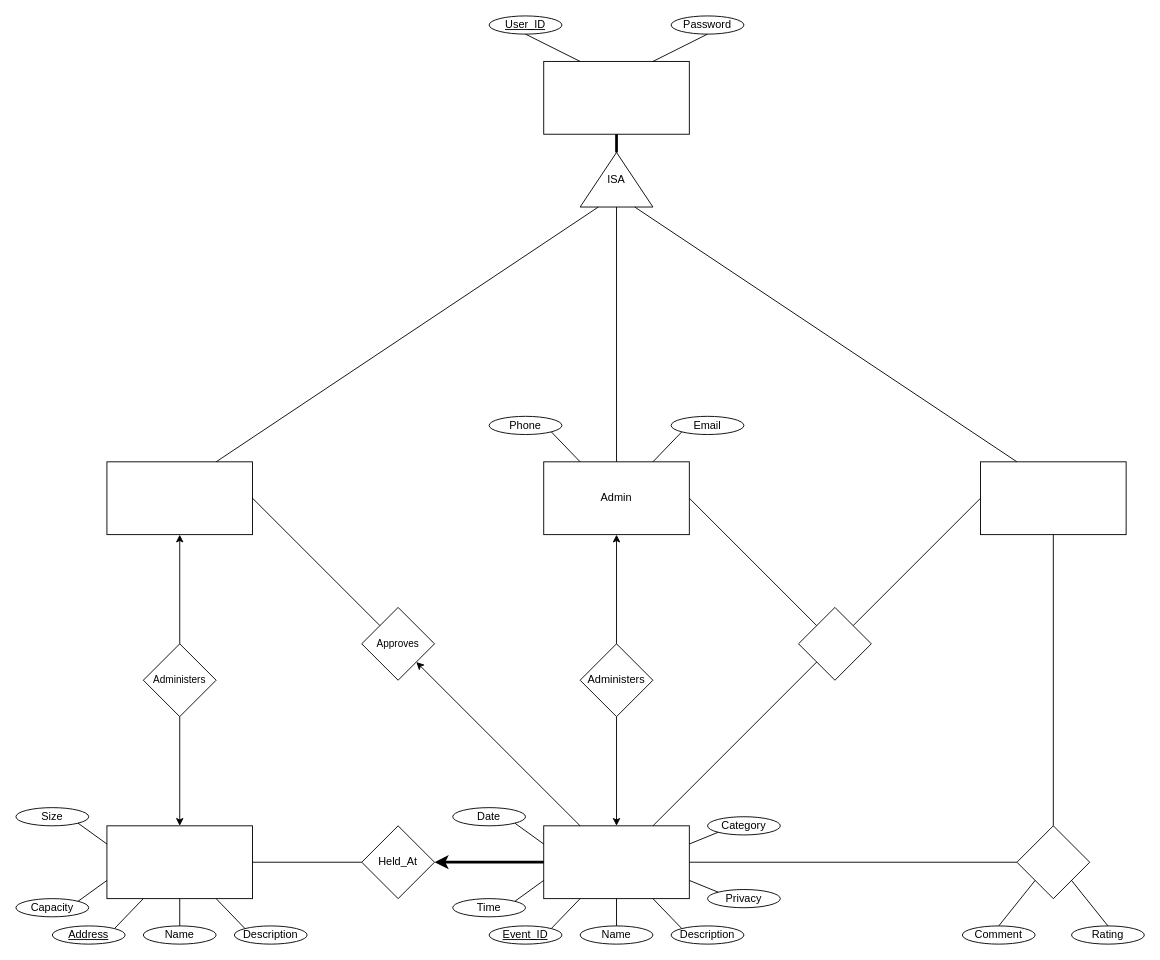
This 1160x960 diagram has some shape labels left out. Each missing label, with the box of its shape:
Attends: (1016, 825, 1090, 899)
Event: (543, 825, 689, 899)
Invited_To: (798, 607, 871, 680)
Location: (106, 825, 253, 899)
Person: (980, 461, 1126, 535)
Super_Admin: (106, 461, 253, 535)
User: (543, 61, 689, 134)
